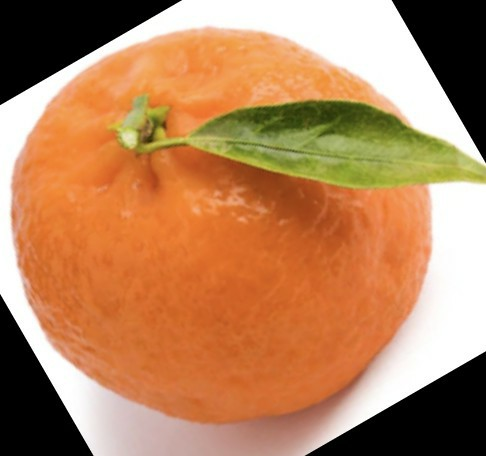fresh_orange: (12, 29, 434, 422)
